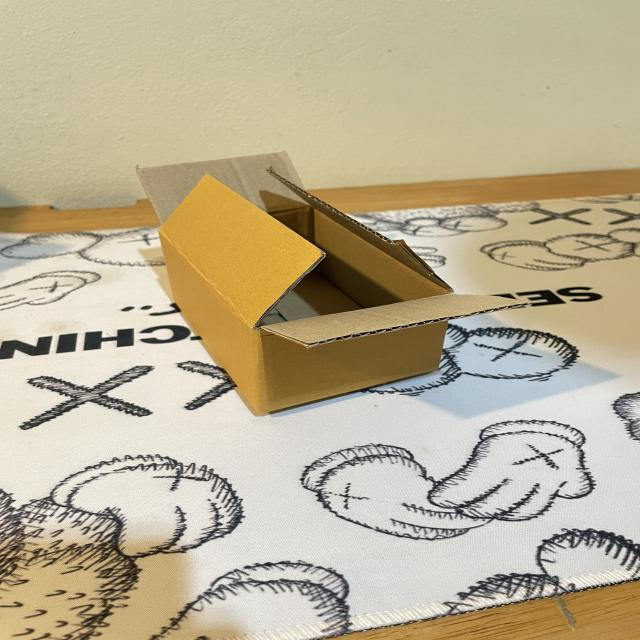box: (134, 151, 529, 418)
opened: (134, 152, 529, 350)
